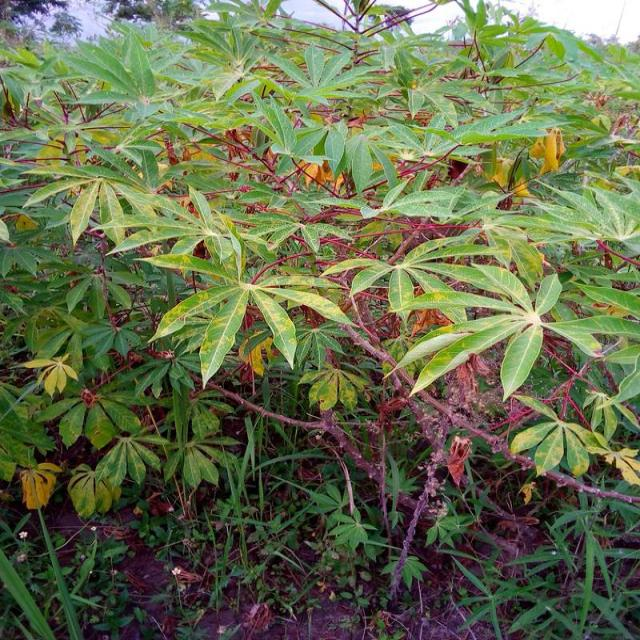cassava leaf: (2, 2, 640, 509)
